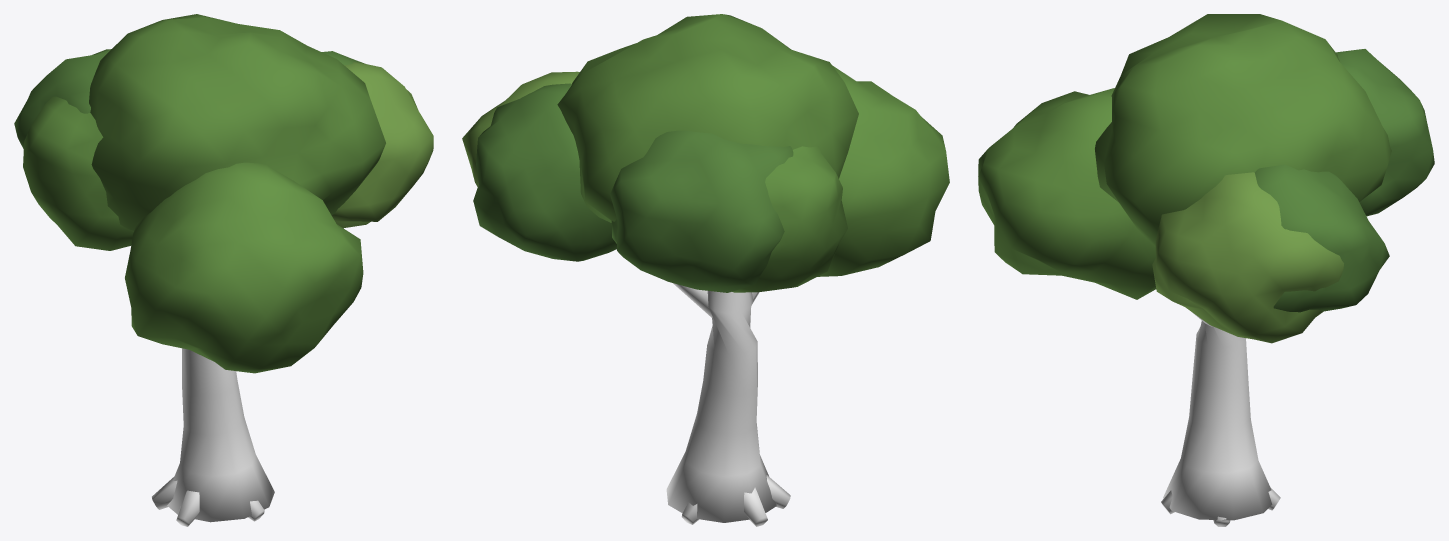
Rendered from TreeOak.fbx.
The picture shows the model from 3 angles, left to right: view 1: azimuth 30°, elevation 25°; view 2: azimuth 150°, elevation 25°; view 3: azimuth 270°, elevation 25°; orthographic projection.
Parts seen in each view (by area): view 1: TreeOak_Foliage, TreeOak_Bark; view 2: TreeOak_Foliage, TreeOak_Bark; view 3: TreeOak_Foliage, TreeOak_Bark.
Part boxes in pixels (left/top/right/bottom): TreeOak_Foliage: left=14, top=14, right=433, bottom=373; TreeOak_Bark: left=152, top=348, right=274, bottom=526; TreeOak_Foliage: left=462, top=14, right=949, bottom=292; TreeOak_Bark: left=666, top=283, right=790, bottom=526; TreeOak_Foliage: left=978, top=14, right=1434, bottom=343; TreeOak_Bark: left=1161, top=313, right=1280, bottom=526.
Size of the model in its own units: 87.86 by 106 by 93.5.
